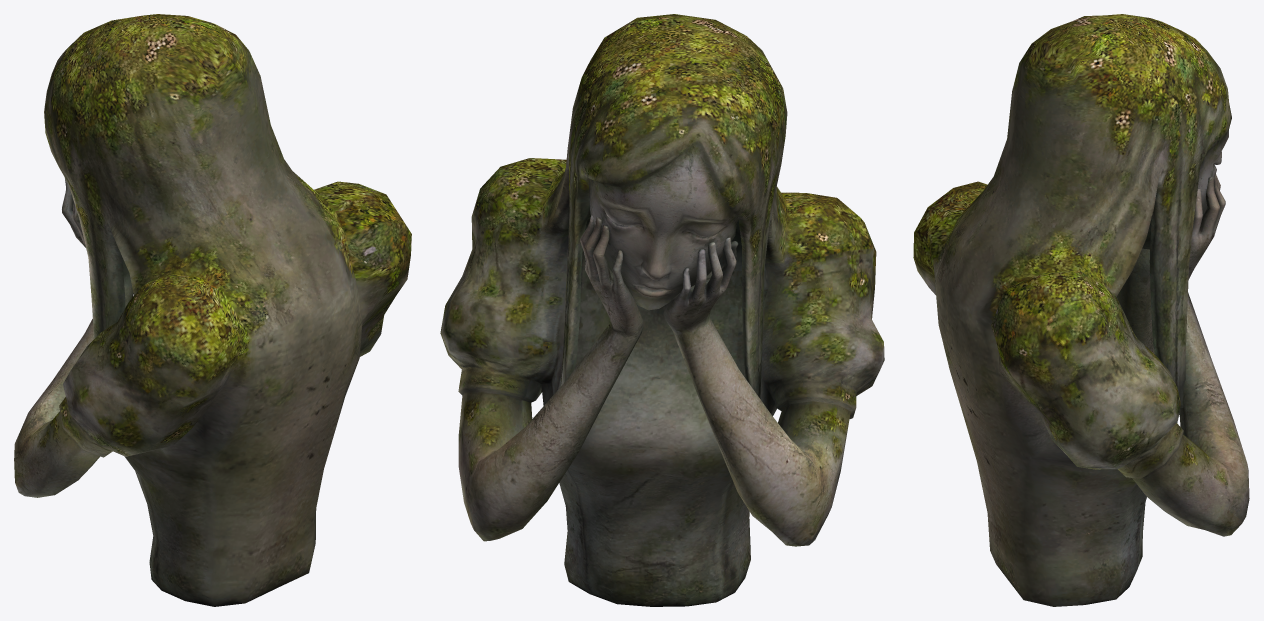
Rendered from Tear Rock.fbx.
The picture shows the model from 3 angles, left to right: view 1: azimuth 30°, elevation 25°; view 2: azimuth 150°, elevation 25°; view 3: azimuth 270°, elevation 25°; orthographic projection. The views are drawn at different scales.
Parts seen in each view (by area): view 1: TearsRock; view 2: TearsRock; view 3: TearsRock.
Part boxes in pixels (<box>): TearsRock: <box>14,14,411,606</box>; TearsRock: <box>440,14,884,606</box>; TearsRock: <box>913,14,1249,606</box>.
Bounding box in the file's own units: 1367 × 2005 × 1153.
